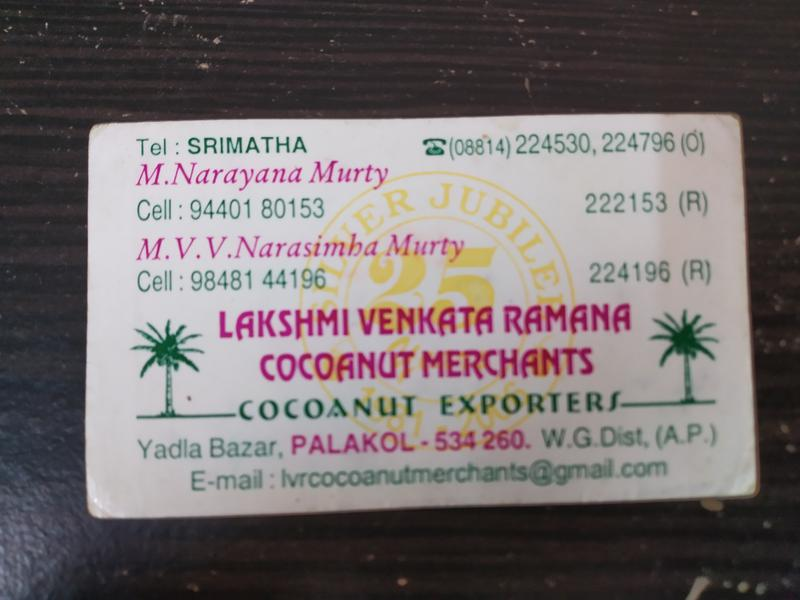card: (85, 113, 759, 515)
